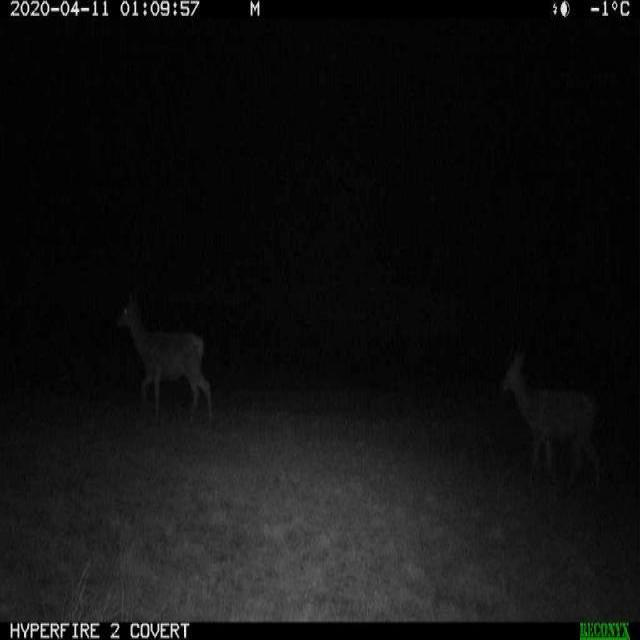deer: (490, 334, 610, 511), (108, 281, 212, 438)
